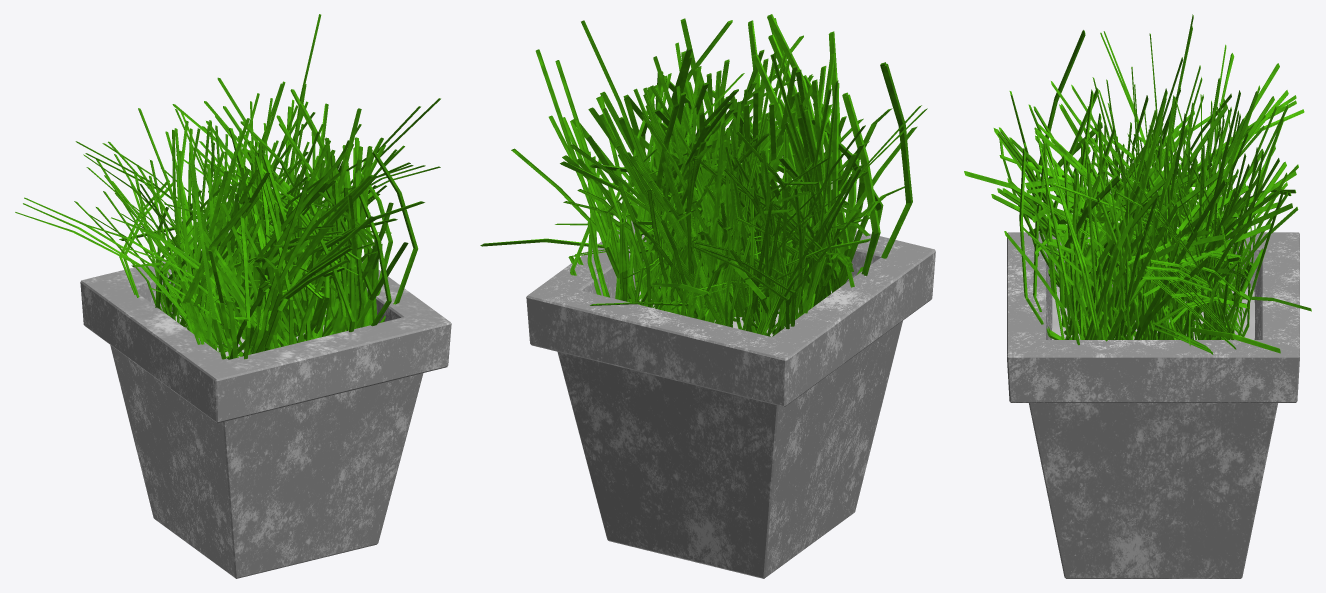
Rendered from GrassFF.fbx.
The picture shows the model from 3 angles, left to right: view 1: azimuth 30°, elevation 25°; view 2: azimuth 150°, elevation 25°; view 3: azimuth 270°, elevation 25°; orthographic projection. The views are drawn at different scales.
Parts seen in each view (by area): view 1: Cube, Mesh; view 2: Cube, Mesh; view 3: Cube, Mesh, Plane.
Boxes of the visible parts, x1=… form: Cube: x1=80, y1=257, x2=451, y2=578; Mesh: x1=15, y1=14, x2=440, y2=359; Cube: x1=526, y1=220, x2=935, y2=578; Mesh: x1=480, y1=14, x2=927, y2=336; Cube: x1=1007, y1=232, x2=1299, y2=578; Mesh: x1=964, y1=14, x2=1311, y2=354; Plane: x1=1052, y1=286, x2=1254, y2=339.
Bounding box in the file's own units: 336 × 417 × 262.
